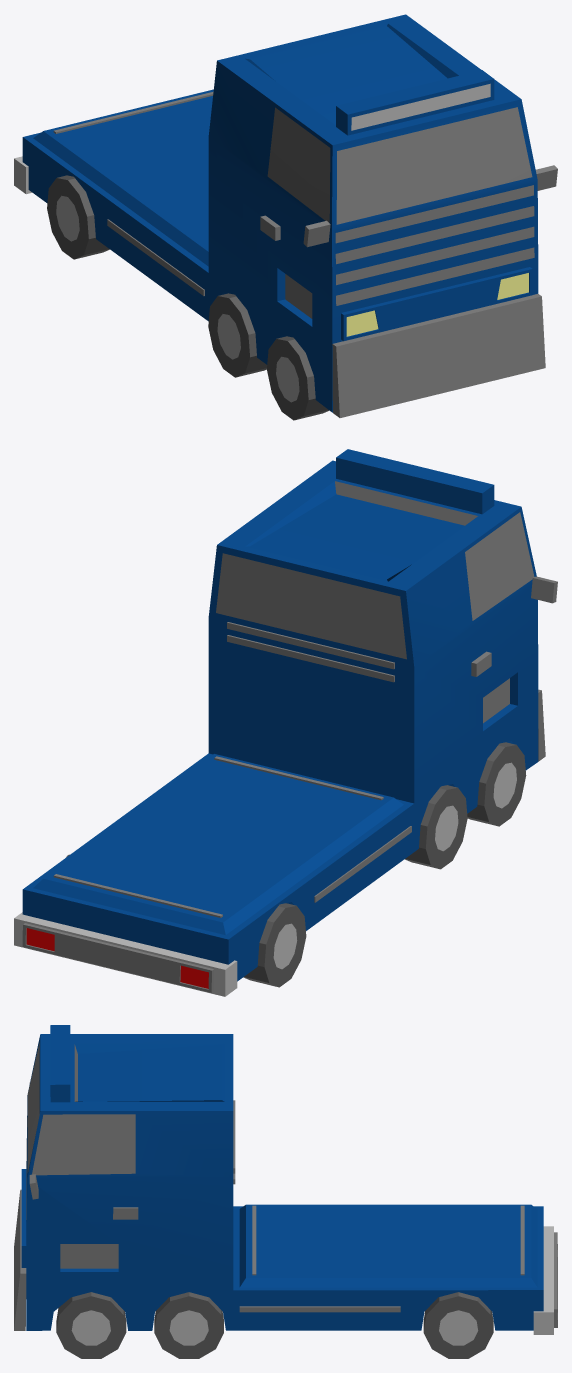
File: SM_Truck_01_05.FBX
3 views of the same model, one above another, from view 1: azimuth 30°, elevation 25°; view 2: azimuth 150°, elevation 25°; view 3: azimuth 270°, elevation 25° (orthographic). The views are drawn at different scales.
Parts seen in each view (by area): view 1: SM_Truck_01_05, SM_Wheel_RBack, SM_Wheel_RFront, SM_Wheel_RMid; view 2: SM_Truck_01_05, SM_Wheel_RMid, SM_Wheel_RBack, SM_Wheel_RFront; view 3: SM_Truck_01_05, SM_Wheel_LFront001, SM_Wheel_LBack, SM_Wheel_LMid.
Part boxes in pixels (bbox=[...]): SM_Truck_01_05: bbox=[14, 14, 557, 417]; SM_Wheel_RBack: bbox=[47, 175, 109, 259]; SM_Wheel_RFront: bbox=[267, 336, 328, 420]; SM_Wheel_RMid: bbox=[208, 293, 267, 377]; SM_Truck_01_05: bbox=[14, 449, 557, 996]; SM_Wheel_RMid: bbox=[405, 785, 467, 869]; SM_Wheel_RBack: bbox=[243, 903, 306, 987]; SM_Wheel_RFront: bbox=[467, 742, 526, 826]; SM_Truck_01_05: bbox=[14, 1025, 557, 1334]; SM_Wheel_LFront001: bbox=[56, 1292, 126, 1358]; SM_Wheel_LBack: bbox=[423, 1292, 493, 1358]; SM_Wheel_LMid: bbox=[154, 1292, 223, 1358].
Size of the model in its own units: 1.85 by 2.21 by 4.19.
Materials: 1 (1 with a texture image).
